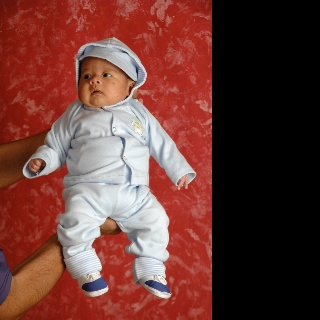without_mask: (77, 58, 130, 107)
